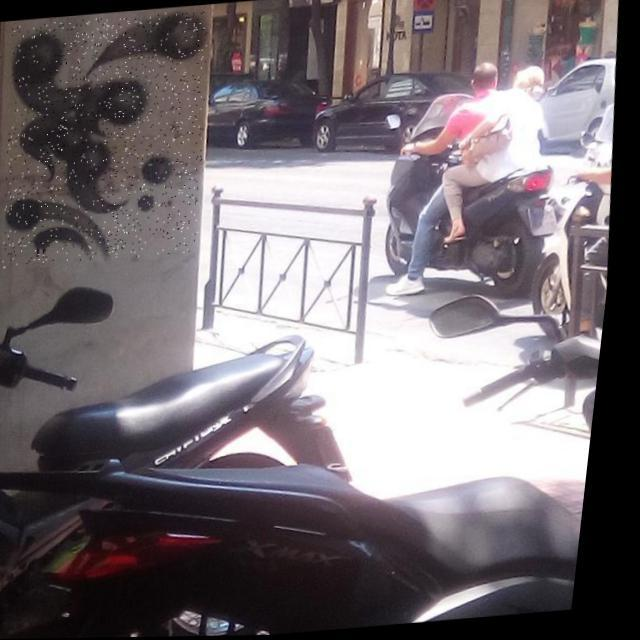-: (0, 9, 225, 268)
